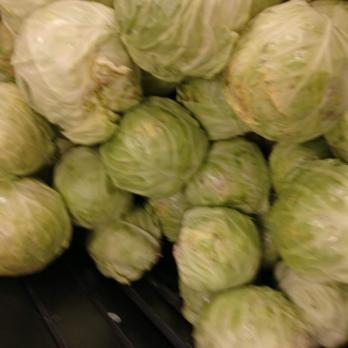Cabbage: (1, 0, 348, 286), (181, 291, 348, 348)
